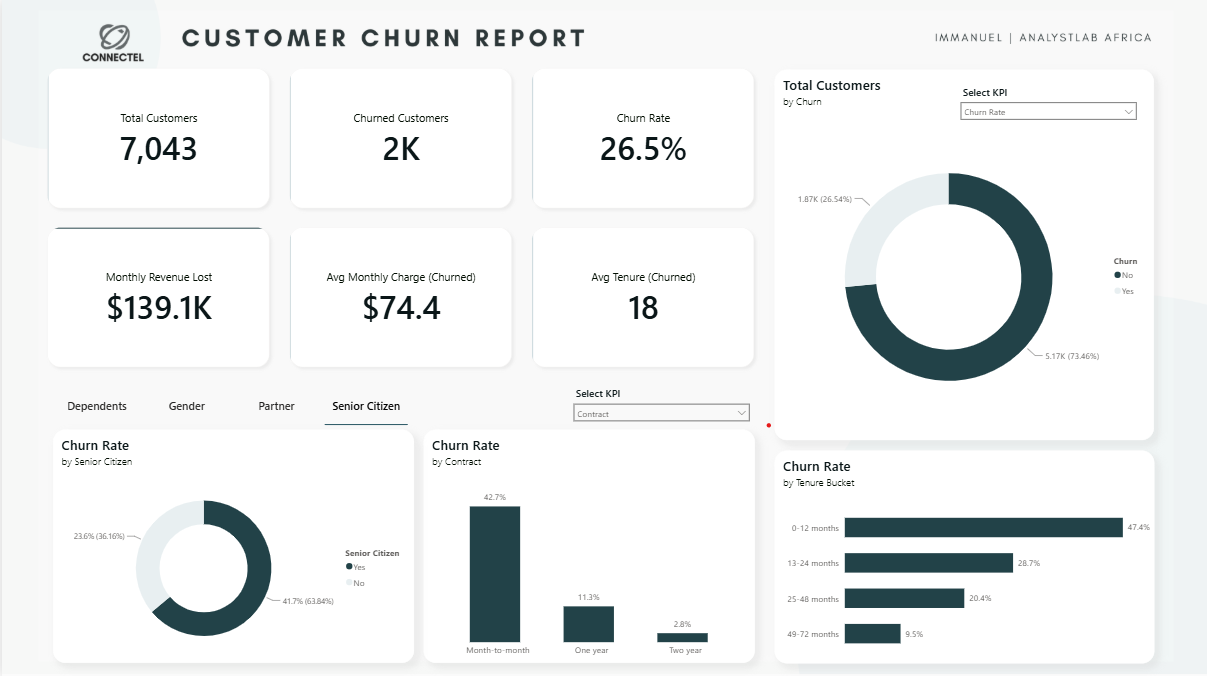

What the dashboard file says about the page in this screenshot:
{"tool":"powerbi","page":{"name":"Overview","canvas":[1920,1080],"ordinal":0},"visuals":[{"type":"cardVisual","fields":{"Data":["_Measures.Total Customers","_Measures.Churned Customers","_Measures.Churn Rate"]},"box":[44.2,81.4,1186.4,281.5],"z":0},{"type":"cardVisual","fields":{"Data":["_Measures.Monthly Revenue Lost","_Measures.Avg Monthly Charge (Churned)","_Measures.Avg Tenure (Churned)"]},"box":[44.2,335,1186.4,281.5],"z":1000},{"type":"donutChart","title":"Total Customers","fields":{"Category":["Churn_Cleaned_Data.Churn"],"Y":["CountNonNull(Churn_Cleaned_Data.customerID)"]},"box":[1230.6,111.7,604.8,590.9],"z":2000},{"type":"clusteredColumnChart","fields":{"Category":["Churn_Cleaned_Data.Contract"],"Y":["_Measures.Churn Rate"]},"box":[672.3,686.3,528.1,372.2],"z":3000},{"type":"clusteredBarChart","fields":{"Category":["Churn_Cleaned_Data.Tenure Bucket"],"Y":["_Measures.Churn Rate"]},"box":[1231,719,605,339],"z":4000},{"type":"slicer","fields":{"Values":["KPI.KPI"]},"box":[1516.8,130.3,300.1,76.8],"z":5000},{"type":"advancedSlicerVisual","fields":{"Values":["Dim_Parameter.Dim_Parameter"]},"box":[79.1,611.8,574.6,72.1],"z":6000},{"type":"slicer","fields":{"Values":["Dim_Parameter2.Dim_Parameter2"]},"box":[900.3,611.8,300.1,74.4],"z":7000},{"type":"donutChart","fields":{"Category":["Churn_Cleaned_Data.SeniorCitizen"],"Y":["_Measures.Churn Rate"]},"box":[81,686,575,372],"z":8000}]}

Visuals, with their boxes in screenshot pixels (x1, y1, x2, y2), scaled from the page's 1920x1080 canvas onto the 1207x676 screenshot:
cardVisual - _Measures.Total Customers x _Measures.Churned Customers: select_region(28, 51, 774, 227)
cardVisual - _Measures.Monthly Revenue Lost x _Measures.Avg Monthly Charge (Churned): select_region(28, 210, 774, 386)
"Total Customers" donutChart: select_region(774, 70, 1154, 440)
clusteredColumnChart - Churn_Cleaned_Data.Contract x _Measures.Churn Rate: select_region(423, 430, 755, 663)
clusteredBarChart - Churn_Cleaned_Data.Tenure Bucket x _Measures.Churn Rate: select_region(774, 450, 1154, 662)
slicer - KPI.KPI: select_region(954, 82, 1142, 130)
advancedSlicerVisual - Dim_Parameter.Dim_Parameter: select_region(50, 383, 411, 428)
slicer - Dim_Parameter2.Dim_Parameter2: select_region(566, 383, 755, 430)
donutChart - Churn_Cleaned_Data.SeniorCitizen x _Measures.Churn Rate: select_region(51, 429, 412, 662)
